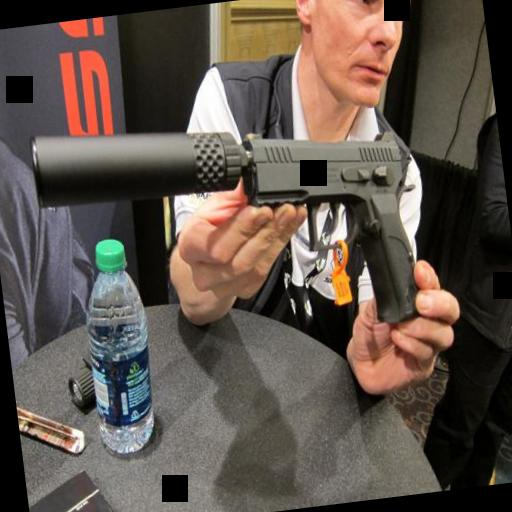Handgun: (234, 116, 431, 340)
